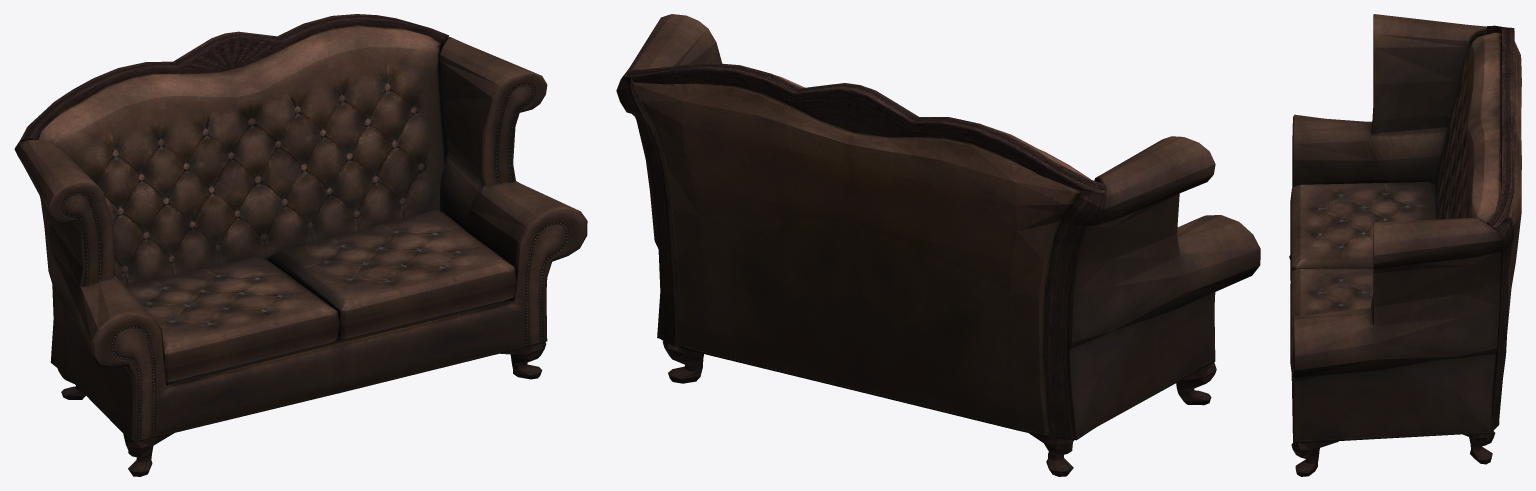
Rendered from sillonRmodelo.fbx.
3 renders of one model, left to right at view 1: azimuth 30°, elevation 25°; view 2: azimuth 150°, elevation 25°; view 3: azimuth 270°, elevation 25°, orthographic. The views are drawn at different scales.
Parts seen in each view (by area): view 1: armchair1:Mesh; view 2: armchair1:Mesh; view 3: armchair1:Mesh.
Boxes of the visible parts, box(x1,y1,x2,y2) form: armchair1:Mesh: box(14, 14, 587, 476); armchair1:Mesh: box(616, 14, 1260, 476); armchair1:Mesh: box(1289, 14, 1521, 476).
Bounding box in the file's own units: 4.63 × 2.76 × 1.95.
